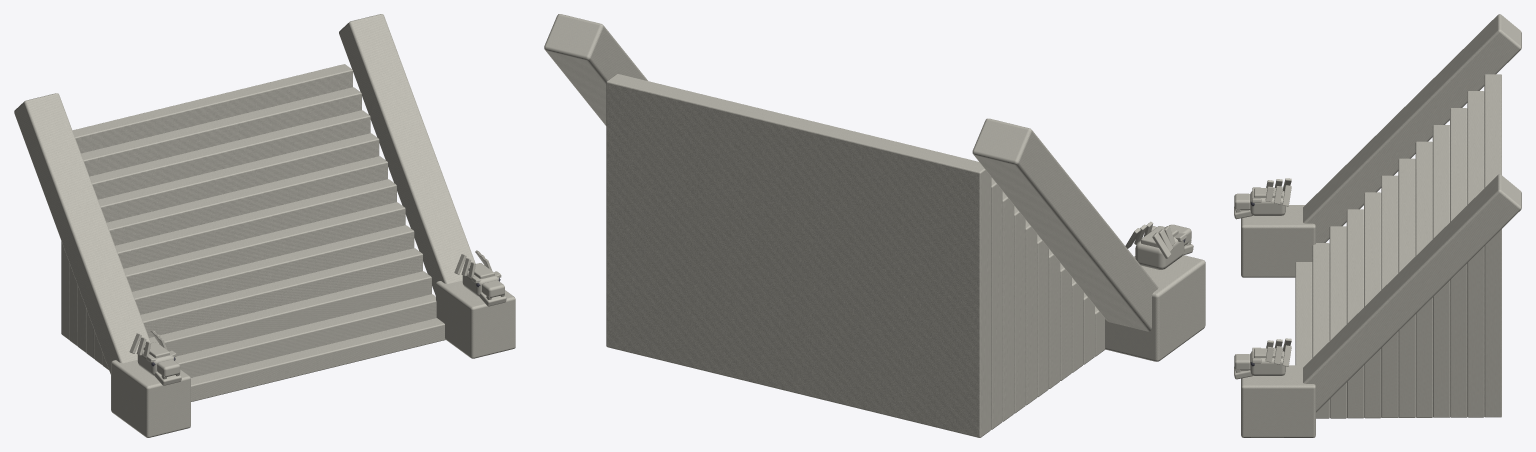
The model's file is jungle-temple-and-stone-city-pyramid-stair-flight-a97970be__36103.glb.
The picture shows the model from 3 angles, left to right: view 1: azimuth 30°, elevation 25°; view 2: azimuth 150°, elevation 25°; view 3: azimuth 270°, elevation 25°; orthographic projection. The views are drawn at different scales.
Visible parts, largest first — view 1: pyramid-stair-flight; view 2: pyramid-stair-flight; view 3: pyramid-stair-flight.
Part boxes in pixels (x1,y1,x2,y2): pyramid-stair-flight: [14, 14, 515, 437]; pyramid-stair-flight: [544, 14, 1205, 437]; pyramid-stair-flight: [1234, 14, 1521, 437].
Size of the model in its own units: 4.6 by 2.89 by 3.07.
3 materials, 2 textured.
